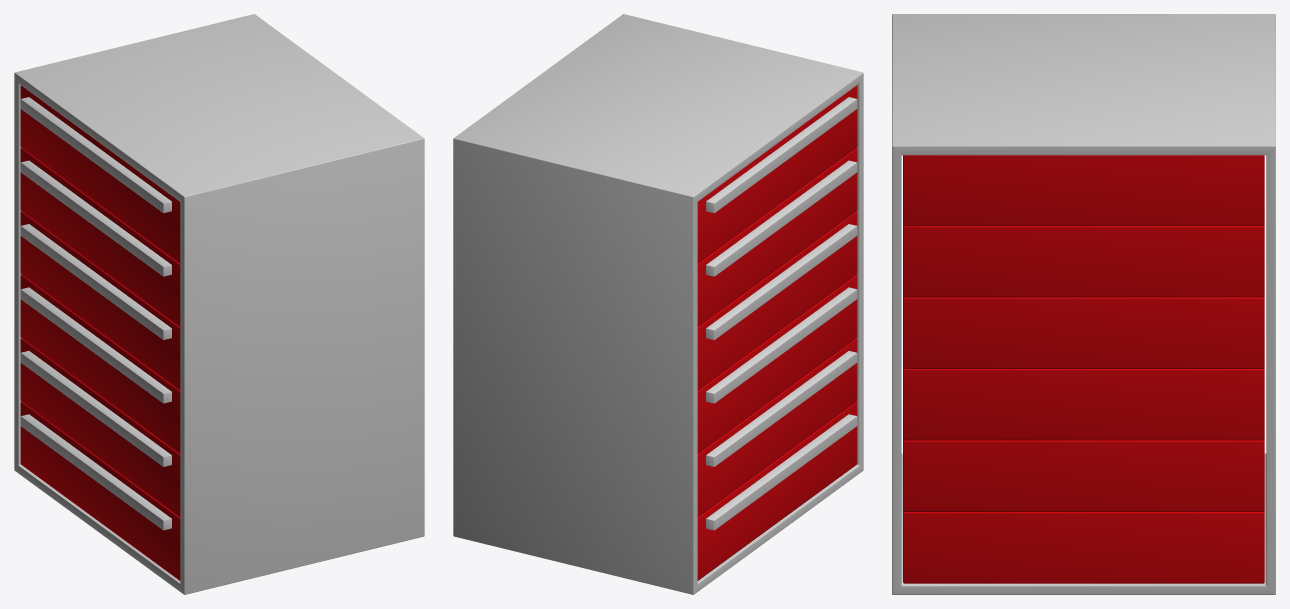
Rendered from SM_Cabinet_Small.fbx.
3 views of the same model, side by side, from view 1: azimuth 30°, elevation 25°; view 2: azimuth 150°, elevation 25°; view 3: azimuth 270°, elevation 25° (orthographic). The views are drawn at different scales.
Parts seen in each view (by area): view 1: conteneur_tiroirs.010, poignee_09.010, poignee_09.014, poignee_09.012, poignee_09.011, poignee_09.013, poignee_09.015; view 2: conteneur_tiroirs.010, poignee_09.010, poignee_09.012, poignee_09.011, poignee_09.014, poignee_09.013, poignee_09.015; view 3: conteneur_tiroirs.010, poignee_09.012, poignee_09.010, poignee_09.013, poignee_09.014, poignee_09.011, poignee_09.015.
Boxes of the visible parts, box(x1,y1,x2,y2) form: conteneur_tiroirs.010: box(14, 14, 424, 594); poignee_09.010: box(20, 338, 180, 517); poignee_09.014: box(20, 148, 180, 326); poignee_09.012: box(20, 211, 180, 390); poignee_09.011: box(20, 275, 180, 453); poignee_09.013: box(20, 401, 180, 580); poignee_09.015: box(20, 85, 180, 263); conteneur_tiroirs.010: box(453, 14, 863, 594); poignee_09.010: box(697, 338, 857, 517); poignee_09.012: box(697, 211, 857, 390); poignee_09.011: box(697, 274, 857, 453); poignee_09.014: box(697, 148, 857, 326); poignee_09.013: box(697, 401, 857, 580); poignee_09.015: box(697, 85, 857, 263); conteneur_tiroirs.010: box(892, 14, 1275, 594); poignee_09.012: box(903, 296, 1264, 368); poignee_09.010: box(903, 439, 1264, 511); poignee_09.013: box(903, 511, 1264, 583); poignee_09.014: box(903, 225, 1264, 297); poignee_09.011: box(903, 368, 1264, 440); poignee_09.015: box(903, 155, 1264, 225).
Size of the model in its own units: 52.13 by 80.14 by 62.07.
